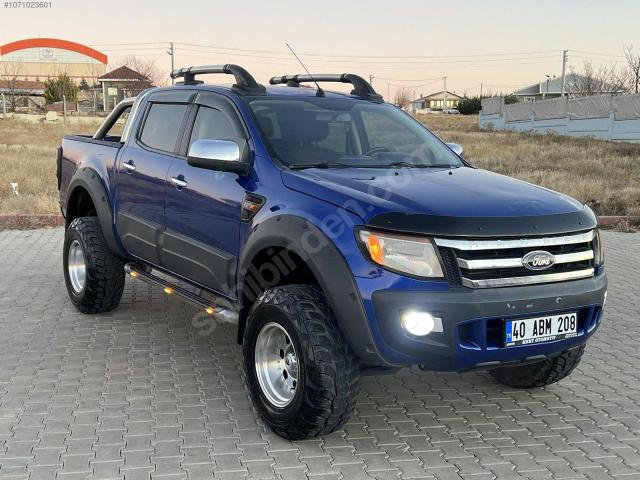plaka: (504, 312, 578, 346)
